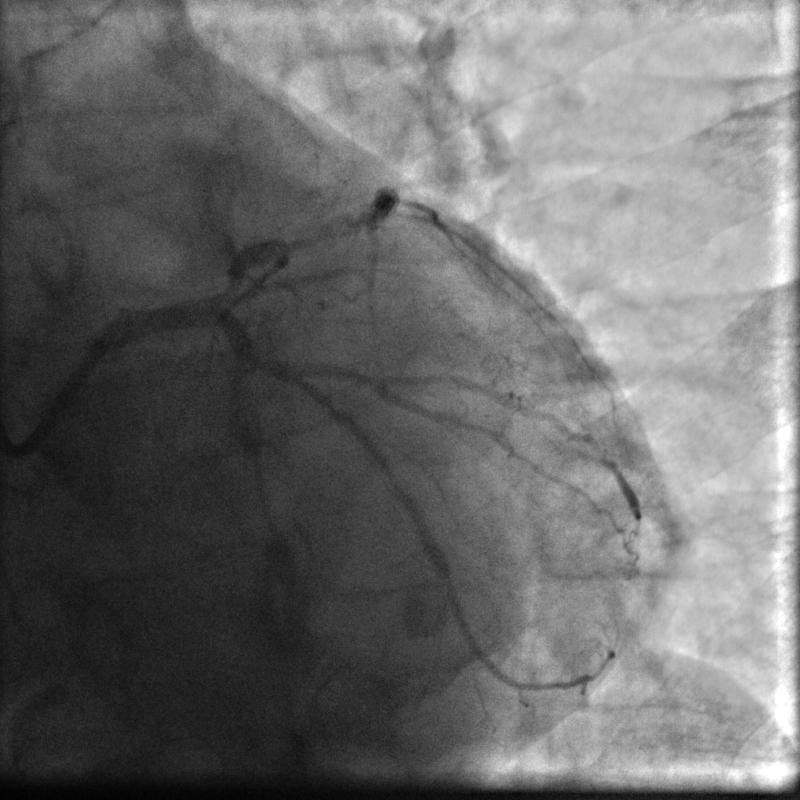Stenosis: (209, 258, 244, 306)
